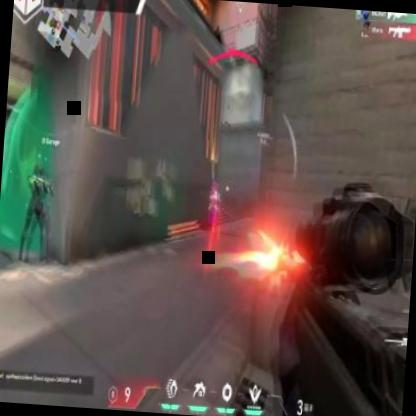enemy: (206, 180, 221, 233)
enemy_head: (211, 180, 216, 192)
